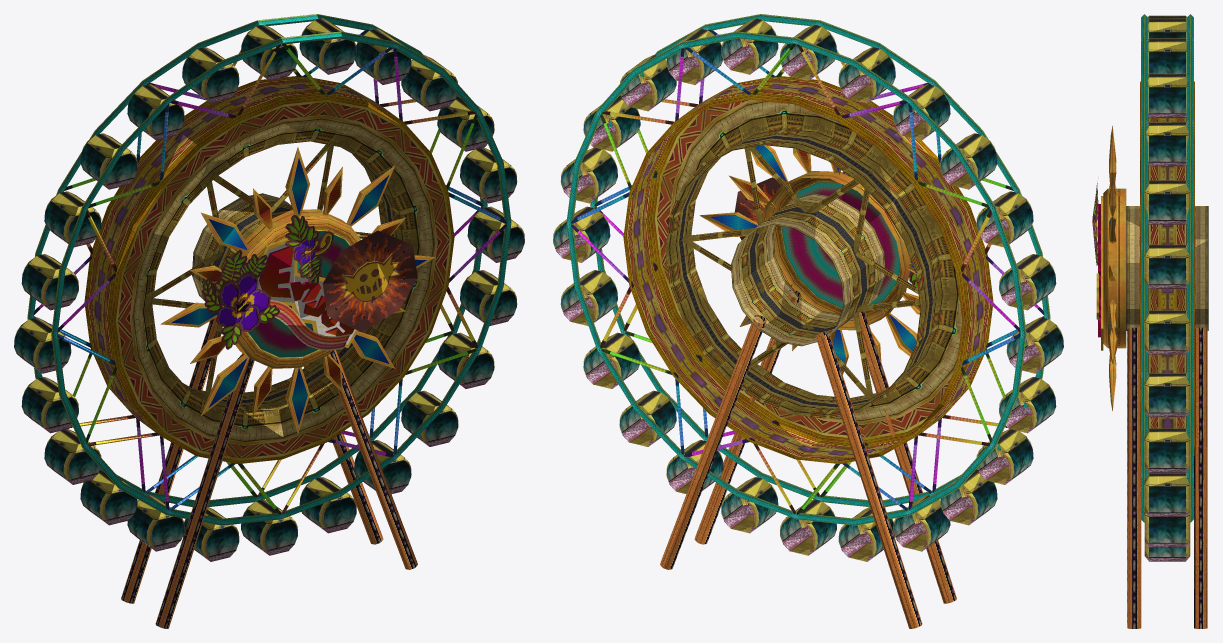
The model's file is stg110_MotWheel_10.obj.
3 renders of one model, left to right at view 1: azimuth 30°, elevation 25°; view 2: azimuth 150°, elevation 25°; view 3: azimuth 270°, elevation 25°, orthographic. The views are drawn at different scales.
Parts seen in each view (by area): view 1: polygon16, polygon13, polygon15, polygon7, polygon14, polygon9, polygon1, polygon5, polygon12, polygon8, polygon4, polygon10 (+46 smaller); view 2: polygon16, polygon13, polygon15, polygon7, polygon8, polygon14, polygon9, polygon10, polygon12, polygon78, polygon75, polygon21 (+41 smaller); view 3: polygon7, polygon15, polygon9, polygon16, polygon8, polygon26, polygon29, polygon32, polygon38, polygon41, polygon44, polygon47 (+20 smaller).
Boxes of the visible parts, <box> form: polygon16: <box>84,75,454,463</box>; polygon13: <box>133,118,434,441</box>; polygon15: <box>27,14,511,525</box>; polygon7: <box>121,317,417,628</box>; polygon14: <box>33,30,506,514</box>; polygon9: <box>160,147,435,434</box>; polygon1: <box>201,215,333,349</box>; polygon5: <box>322,230,417,332</box>; polygon12: <box>171,158,426,424</box>; polygon8: <box>192,193,292,301</box>; polygon4: <box>259,247,354,336</box>; polygon10: <box>248,231,349,357</box>; polygon16: <box>623,75,993,463</box>; polygon13: <box>665,101,962,420</box>; polygon15: <box>566,14,1050,525</box>; polygon7: <box>660,289,956,628</box>; polygon8: <box>731,193,885,346</box>; polygon14: <box>571,30,1044,514</box>; polygon9: <box>699,145,920,374</box>; polygon10: <box>782,182,900,307</box>; polygon12: <box>710,145,916,370</box>; polygon78: <box>976,429,1032,484</box>; polygon75: <box>999,377,1055,432</box>; polygon21: <box>721,477,777,532</box>; polygon7: <box>1127,327,1207,628</box>; polygon15: <box>1141,14,1193,522</box>; polygon9: <box>1103,126,1126,410</box>; polygon16: <box>1140,81,1194,455</box>; polygon8: <box>1126,206,1208,330</box>; polygon26: <box>1149,517,1185,543</box>; polygon29: <box>1149,486,1185,512</box>; polygon32: <box>1149,442,1185,468</box>; polygon38: <box>1149,324,1185,350</box>; polygon41: <box>1149,258,1185,284</box>; polygon44: <box>1149,194,1185,220</box>; polygon47: <box>1149,136,1185,162</box>.
Size of the model in its own units: 805 by 870 by 172.
